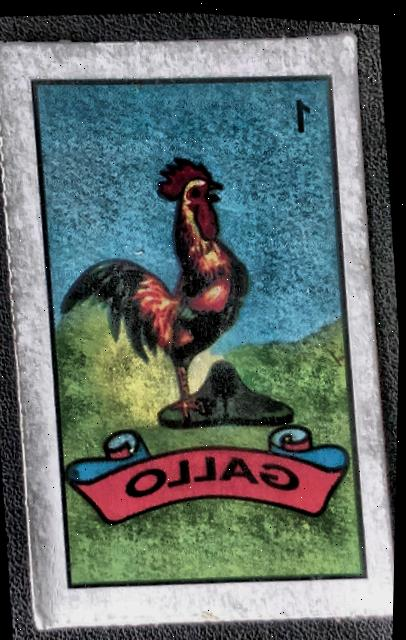Gallo: (4, 33, 388, 620)
